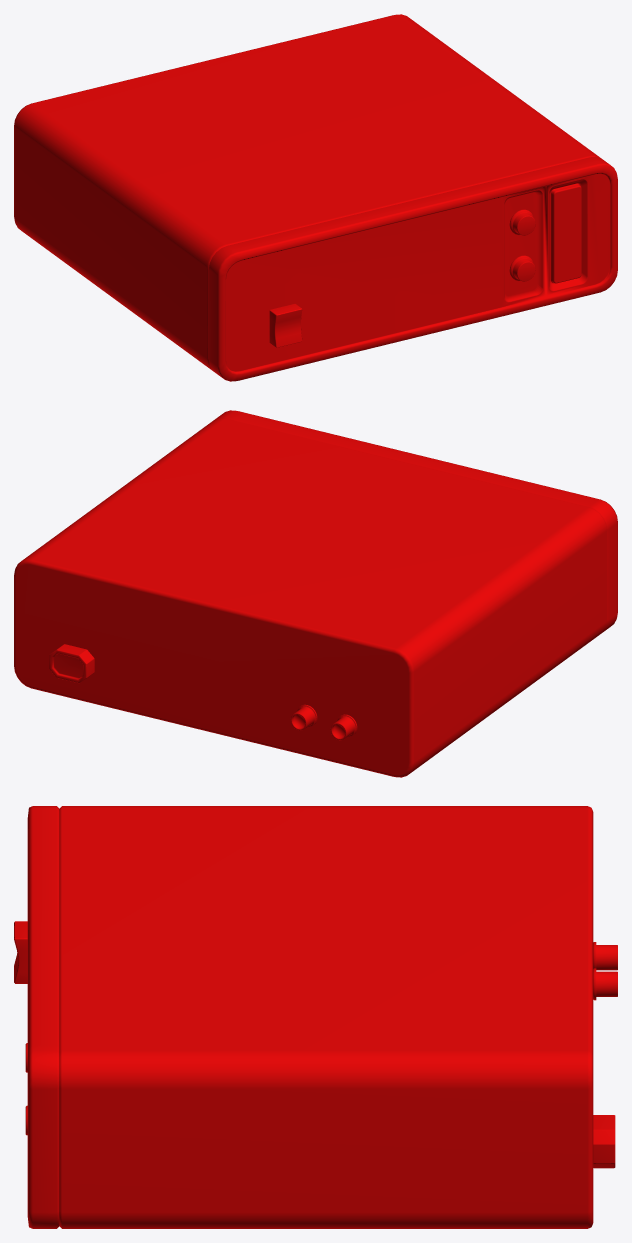
Rendered from Equipment_23.fbx.
The picture shows the model from 3 angles, top to bottom: view 1: azimuth 30°, elevation 25°; view 2: azimuth 150°, elevation 25°; view 3: azimuth 270°, elevation 25°; orthographic projection. The views are drawn at different scales.
Parts seen in each view (by area): view 1: L5:pCylinder154; view 2: L5:pCylinder154; view 3: L5:pCylinder154.
Part boxes in pixels (x1,y1,x2,y2): L5:pCylinder154: (14, 14, 617, 381); L5:pCylinder154: (14, 410, 617, 777); L5:pCylinder154: (14, 806, 617, 1228).
Bounding box in the file's own units: 38.17 × 12.84 × 36.56.
